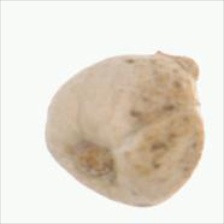L3: (157, 52, 200, 96)
L4: (44, 53, 205, 207)
